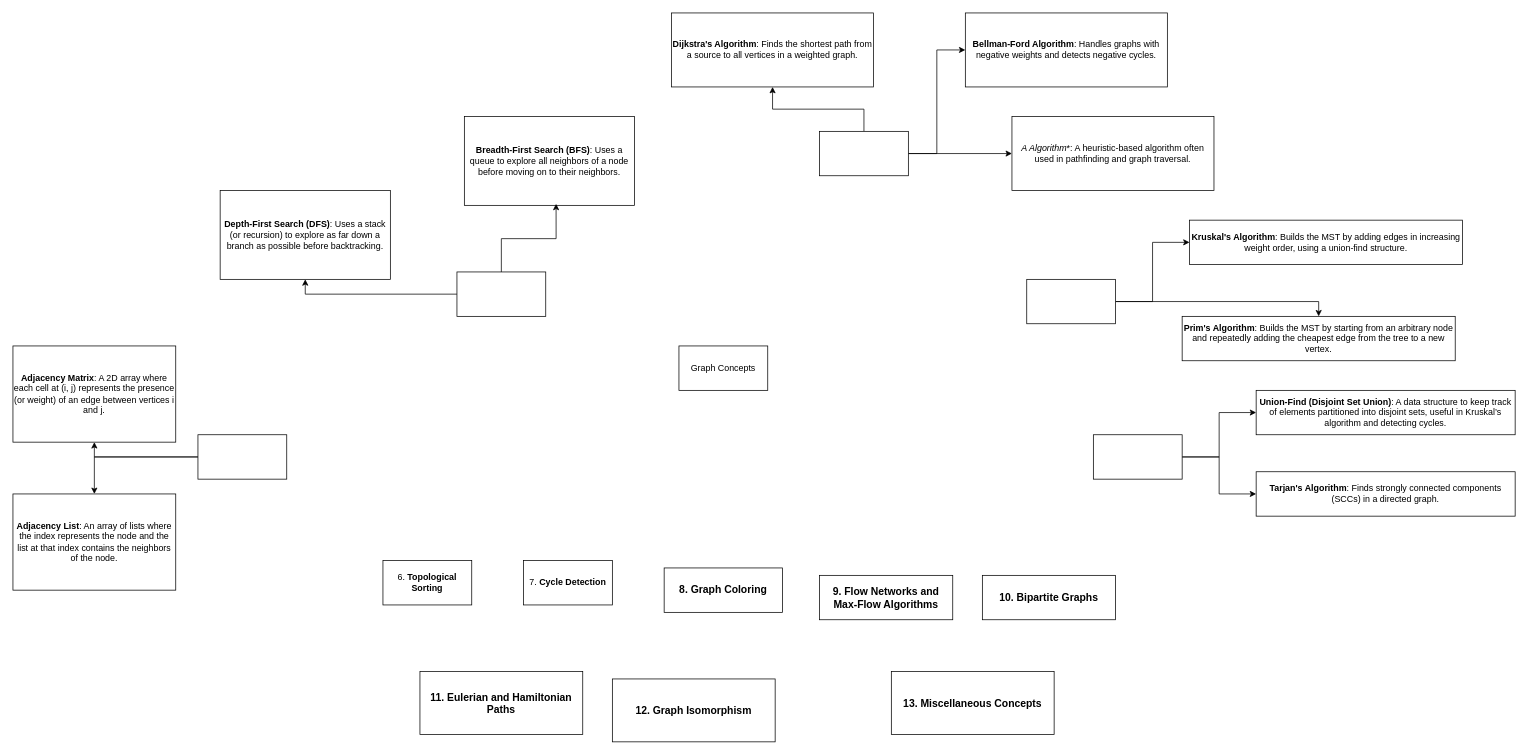
Image size: 1528x755. Some labels were removed from this diagram. The shapes that lost their labels are listed below. From the top down, each one's centre as x and y in pixels, then its label:
At [863,153]: "3. Shortest Path Algorithms".
At [501,293]: "2. Graph Traversal".
At [1071,301]: "4. Minimum Spanning Tree (MST)".
At [242,456]: "1. Graph Representation".
At [1137,456]: "5. Graph Connectivity".
